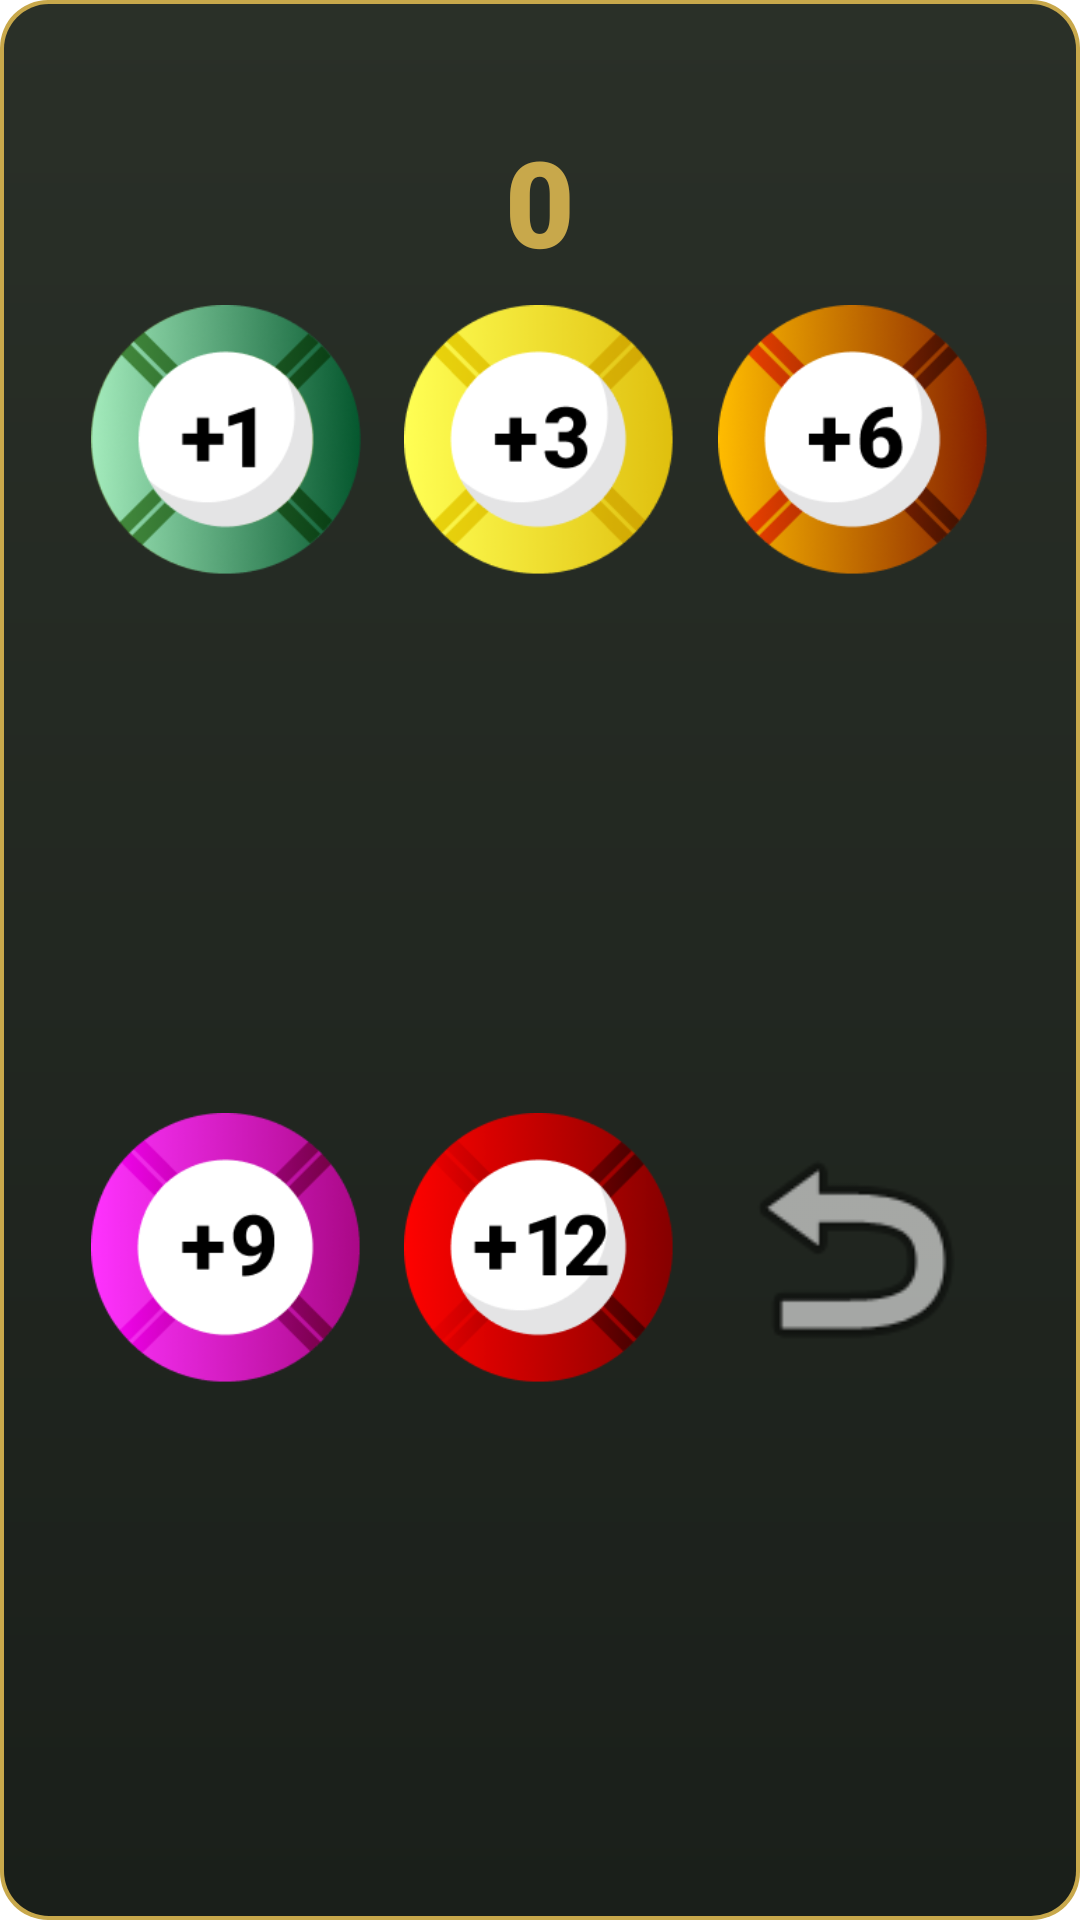

Screen size 1080w x 1920h. Icon name, then its center in pixels as [x,y]:
Desfazer: [857,1250]
